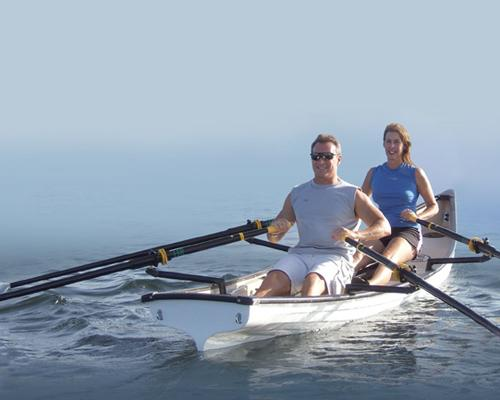person: (252, 132, 394, 297)
